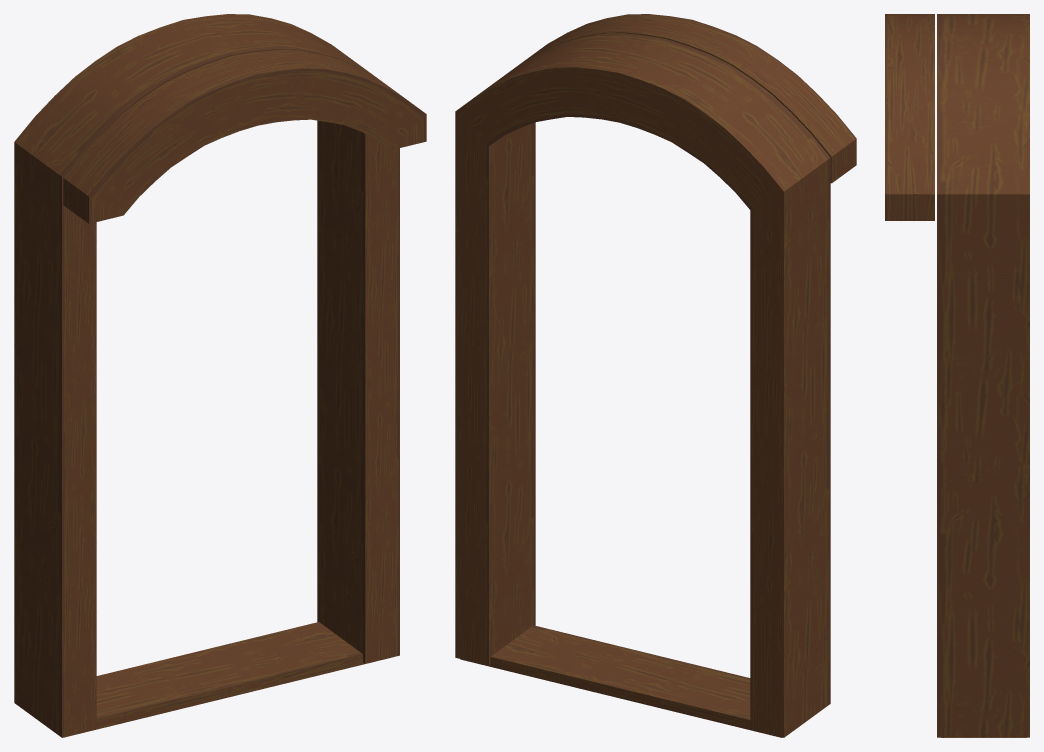
Rendered from DoorFrame_Round_WoodDark.gltf.
The picture shows the model from 3 angles, left to right: view 1: azimuth 30°, elevation 25°; view 2: azimuth 150°, elevation 25°; view 3: azimuth 270°, elevation 25°; orthographic projection. The views are drawn at different scales.
Visible parts, largest first — view 1: DoorFrame_Round_WoodDark; view 2: DoorFrame_Round_WoodDark; view 3: DoorFrame_Round_WoodDark.
Part boxes in pixels (left/top/right/bottom): DoorFrame_Round_WoodDark: left=14, top=14, right=426, bottom=737; DoorFrame_Round_WoodDark: left=455, top=14, right=856, bottom=737; DoorFrame_Round_WoodDark: left=885, top=14, right=1029, bottom=737.
Bounding box in the file's own units: 1.41 × 2.56 × 0.539.
1 material, 1 textured.
